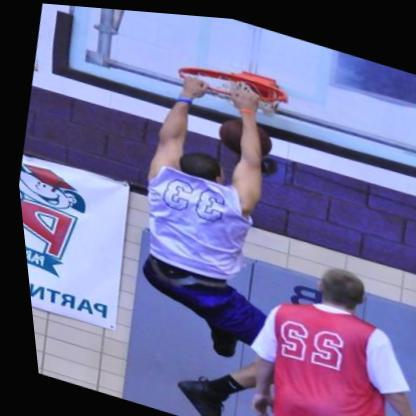basketball: (210, 105, 277, 161)
rim: (169, 51, 292, 109)
